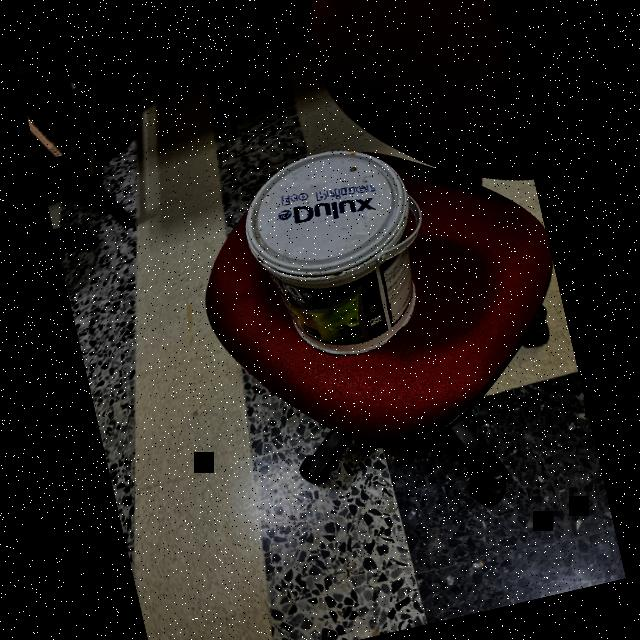paint_bucket: (206, 130, 458, 394)
